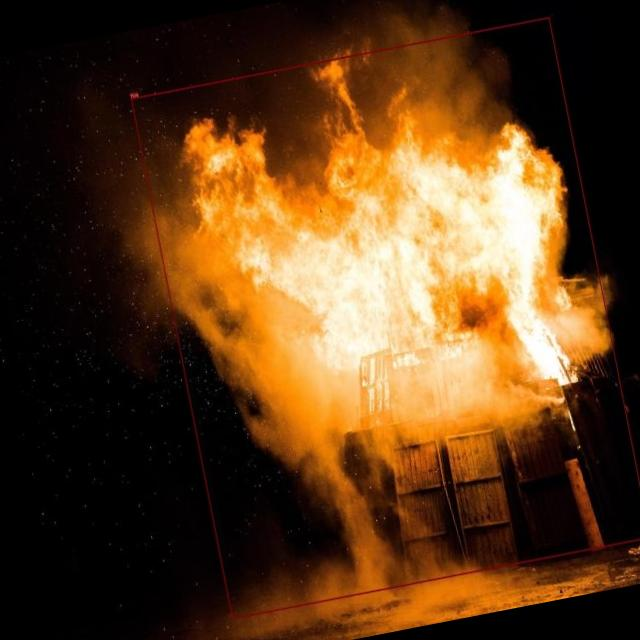fire: (131, 16, 640, 619)
